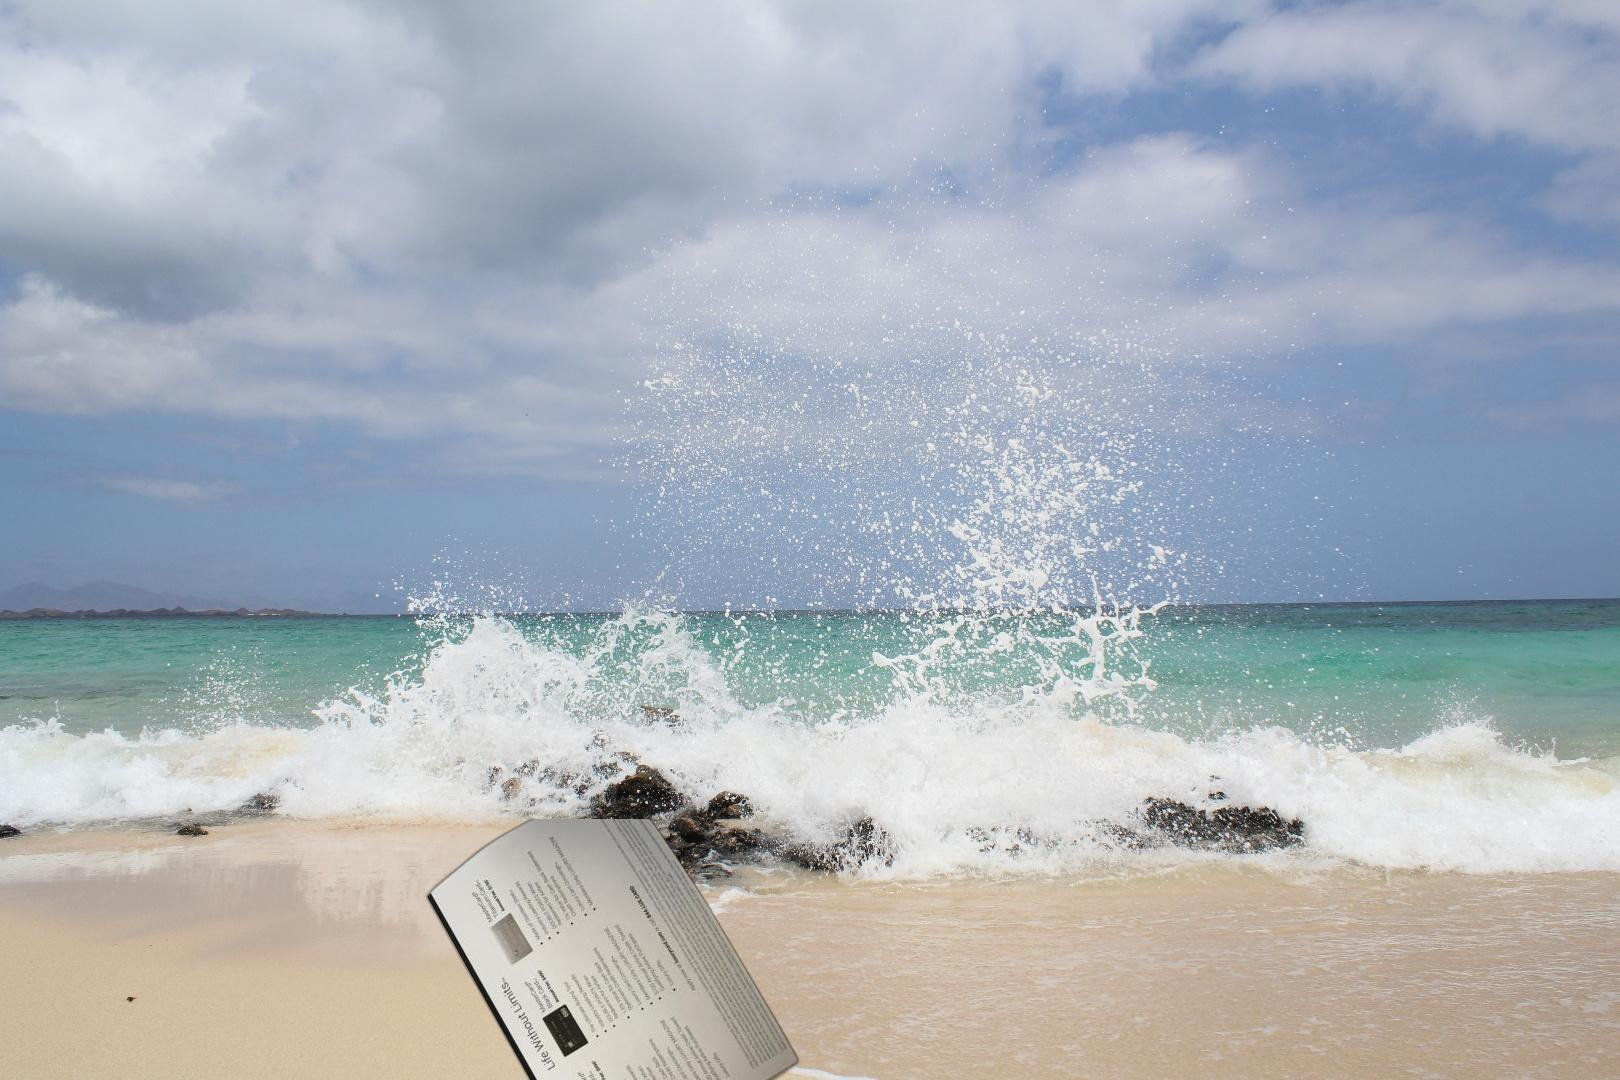paper: (422, 818, 803, 1080)
